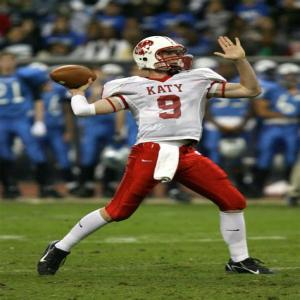Rugby: (50, 64, 98, 88)
